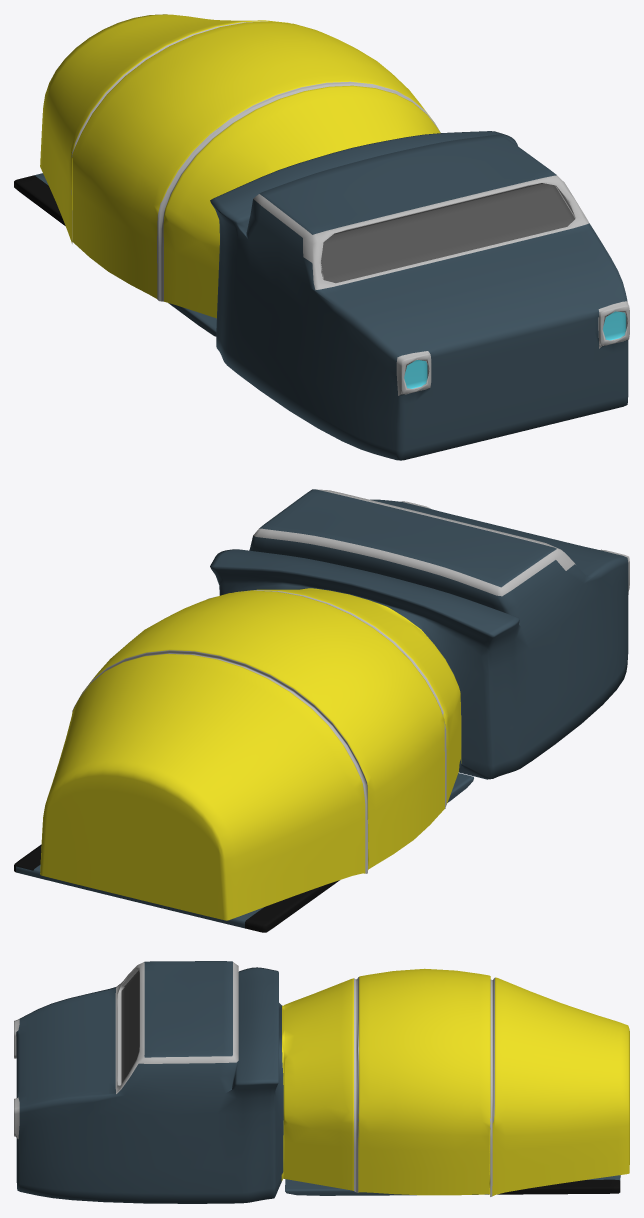
Rendered from truck.fbx.
3 renders of one model, top to bottom at view 1: azimuth 30°, elevation 25°; view 2: azimuth 150°, elevation 25°; view 3: azimuth 270°, elevation 25°, orthographic. The views are drawn at different scales.
Visible parts, largest first — view 1: Cube; view 2: Cube; view 3: Cube.
Boxes of the visible parts, x1,y1,x2,y2 form: Cube: (14,14,629,460); Cube: (14,489,629,932); Cube: (14,961,629,1203).
Size of the model in its own units: 2.54 by 1.59 by 5.51.
